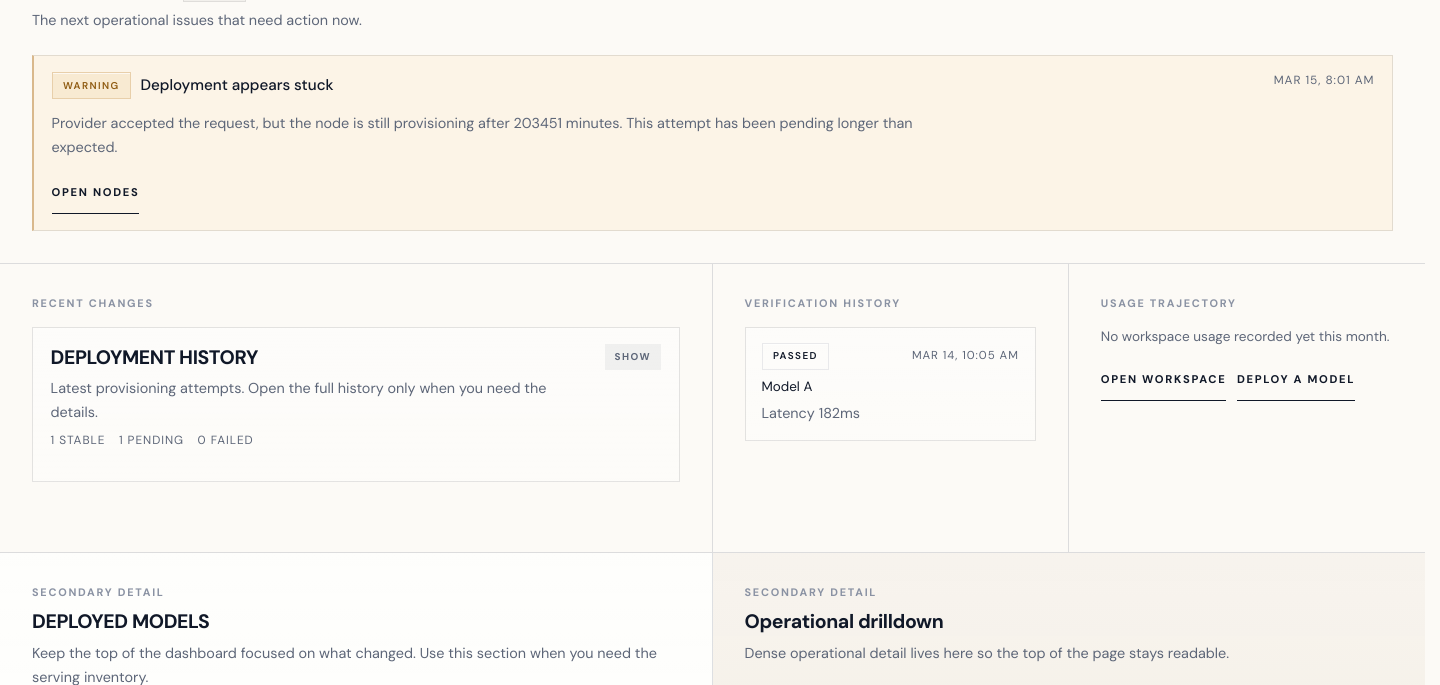
Test: Dashboard › renders dashboard trends and history from deployment and usage data
The image size is (1440, 685).
(page scrolled)
Check: the text "DEPLOYMENT HISTORY" is shown, box [51,344,258,372]
Check: the text "VERIFICATION HISTORY" is shown, box [744,296,901,310]
Click the button "DEPLOYMENT HISTORY" at (154, 358), box [33,328,678,481]
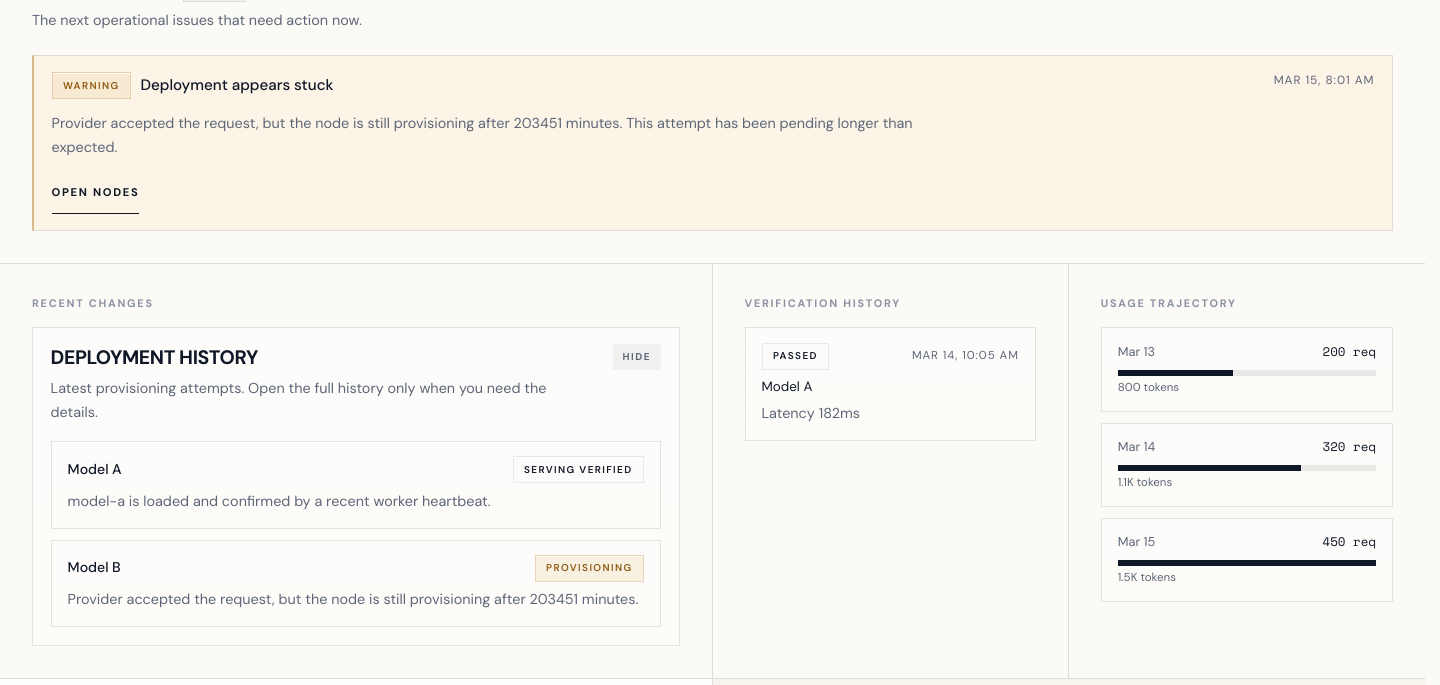
Check: the text "Latency 182ms" is shown, box [762,404,860,422]
Check: the text "Model B" is shown, box [68,558,121,578]
Check: the text "450 req" is shown, box [1323,533,1376,551]
